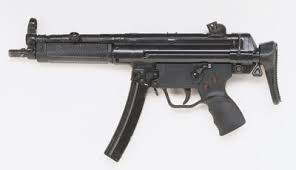gun: (8, 18, 282, 165)
